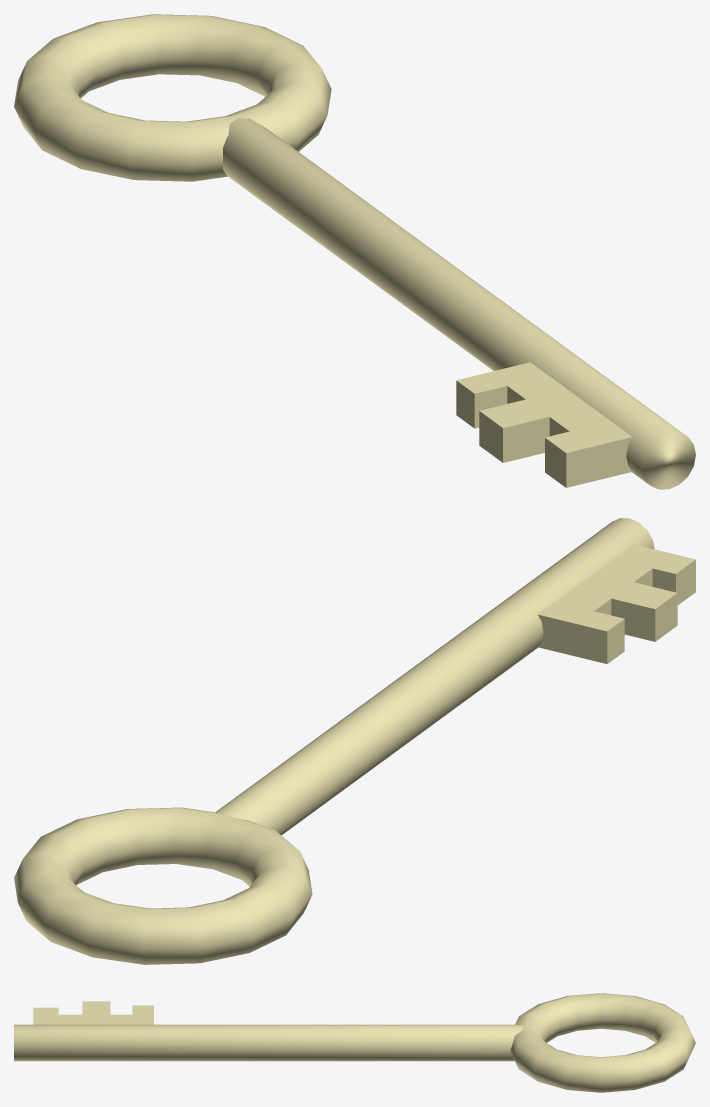
The model's file is key.fbx.
The picture shows the model from 3 angles, top to bottom: view 1: azimuth 30°, elevation 25°; view 2: azimuth 150°, elevation 25°; view 3: azimuth 270°, elevation 25°; orthographic projection. The views are drawn at different scales.
Parts seen in each view (by area): view 1: Cube; view 2: Cube; view 3: Cube.
Boxes of the visible parts, x1,y1,x2,y2 form: Cube: (14,14,695,489); Cube: (14,518,695,964); Cube: (14,993,695,1092).
Size of the model in its own units: 3.56 by 0.7129 by 12.83.
